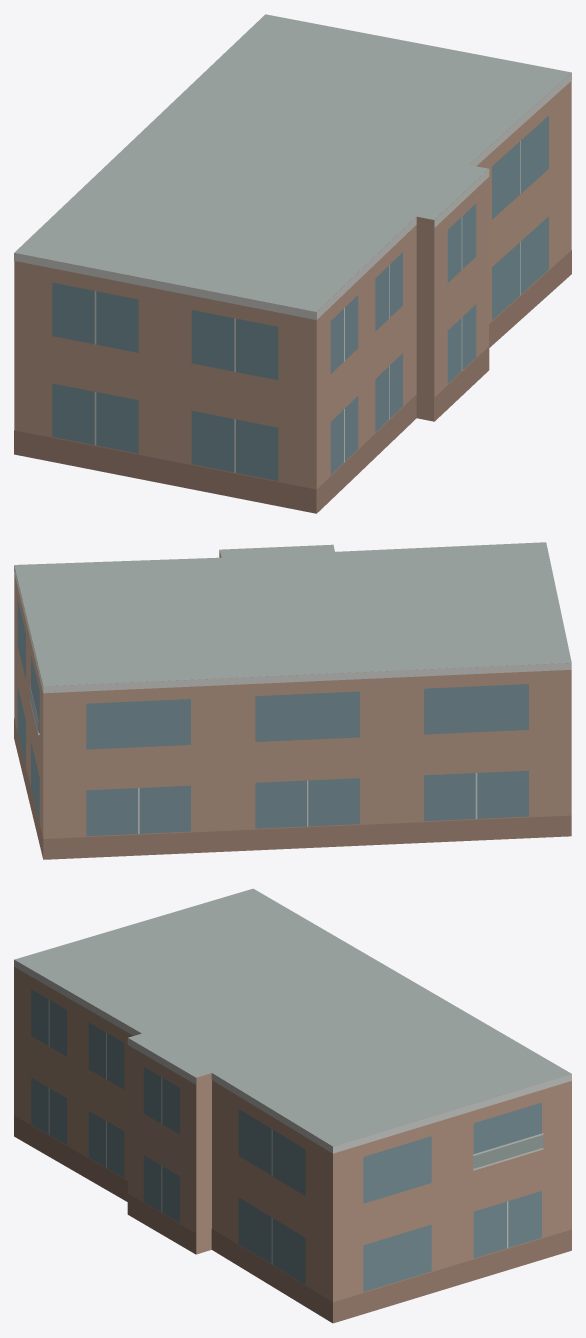
Rendered from survey-upis-32660687.glb.
3 views of the same model, one above another, from view 1: azimuth 30°, elevation 25°; view 2: azimuth 150°, elevation 25°; view 3: azimuth 270°, elevation 25° (orthographic). The views are drawn at different scales.
Parts seen in each view (by area): view 1: survey-upis-32660687.tmp; view 2: survey-upis-32660687.tmp; view 3: survey-upis-32660687.tmp.
Part boxes in pixels (<box>): survey-upis-32660687.tmp: <box>14,14,571,513</box>; survey-upis-32660687.tmp: <box>14,542,571,859</box>; survey-upis-32660687.tmp: <box>14,888,571,1323</box>.
Size of the model in its own units: 19.1 by 6.1 by 17.45.
